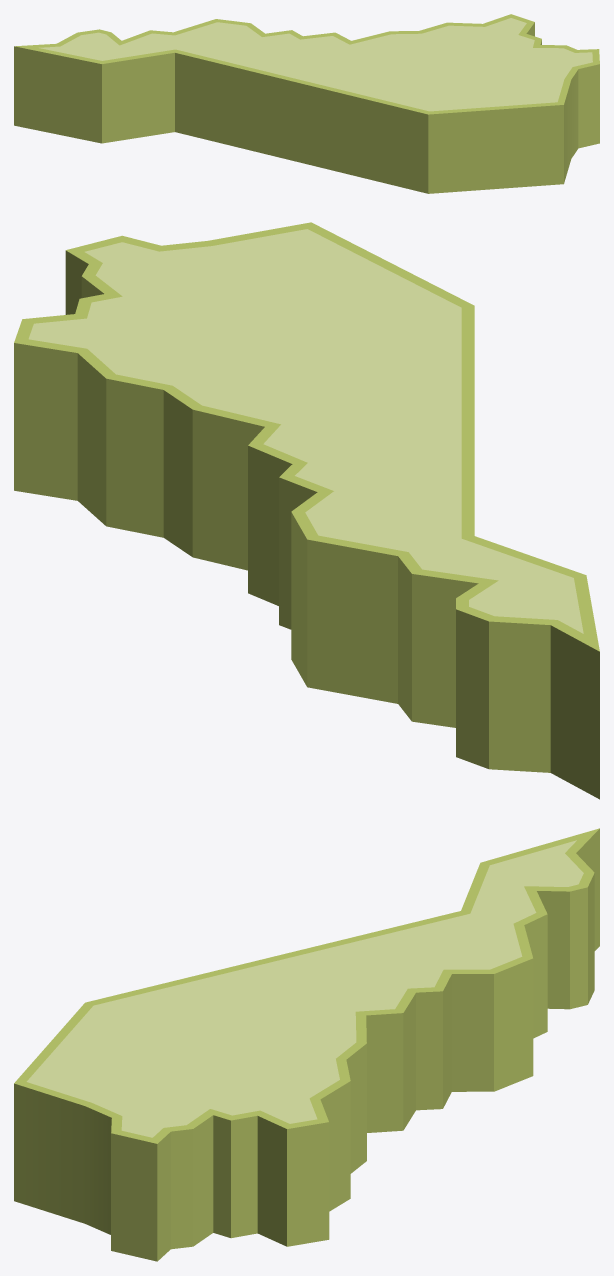
Rendered from Islands4.004.fbx.
The picture shows the model from 3 angles, top to bottom: view 1: azimuth 30°, elevation 25°; view 2: azimuth 150°, elevation 25°; view 3: azimuth 270°, elevation 25°; orthographic projection. The views are drawn at different scales.
Visible parts, largest first — view 1: Island4.004; view 2: Island4.004; view 3: Island4.004.
Part boxes in pixels (bbox=[...]): Island4.004: bbox=[14, 14, 599, 193]; Island4.004: bbox=[14, 222, 599, 799]; Island4.004: bbox=[14, 828, 599, 1261].
Bounding box in the file's own units: 144 × 25 × 113.
